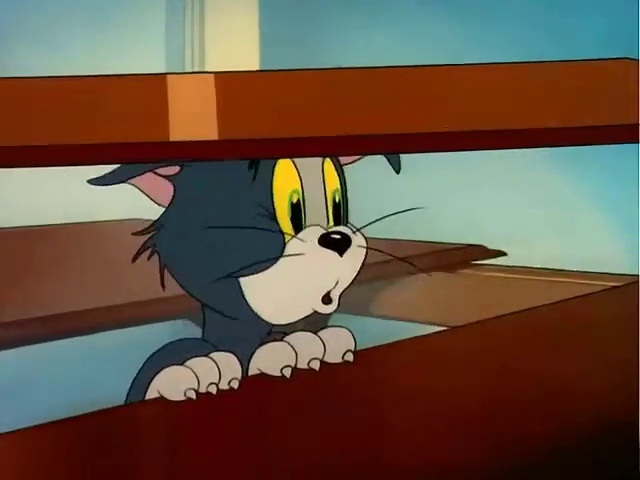tom: (90, 103, 457, 430)
